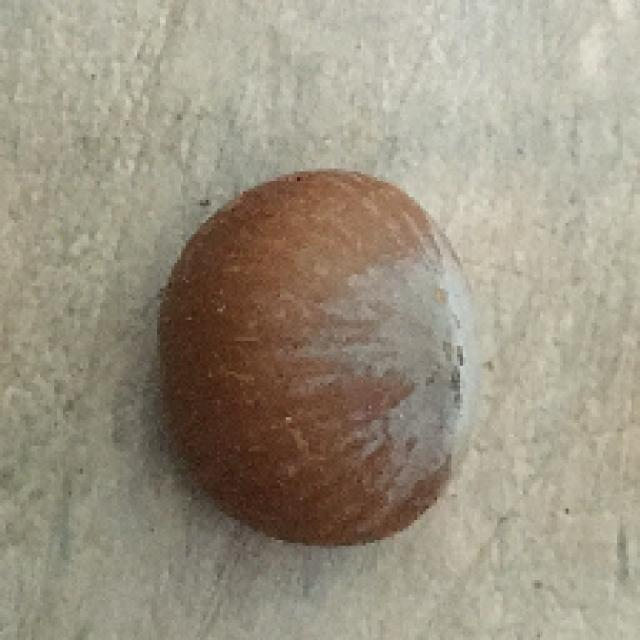qualityHazelnut: (145, 169, 477, 546)
